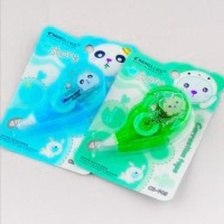book: (71, 46, 224, 203), (0, 22, 140, 177)
correction_fluid: (9, 58, 108, 134), (89, 84, 192, 155)
